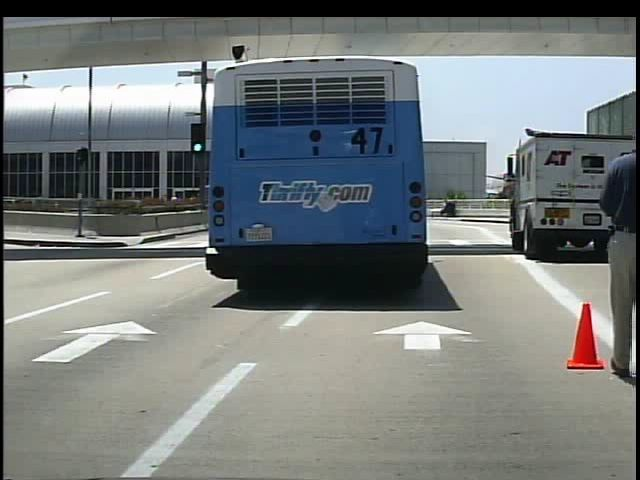person: (598, 115, 636, 386)
